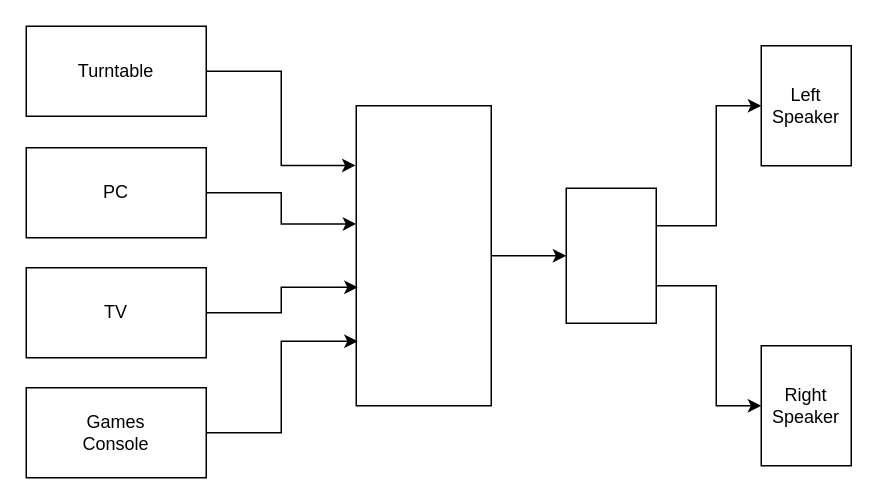
Image size: 878x504. Some labels were removed from this diagram. The box of each missing label's shape, as (x1, y1, x2, y2) in pixels:
Amplifier: (565, 187, 656, 323)
TinyMixer: (355, 104, 491, 406)
